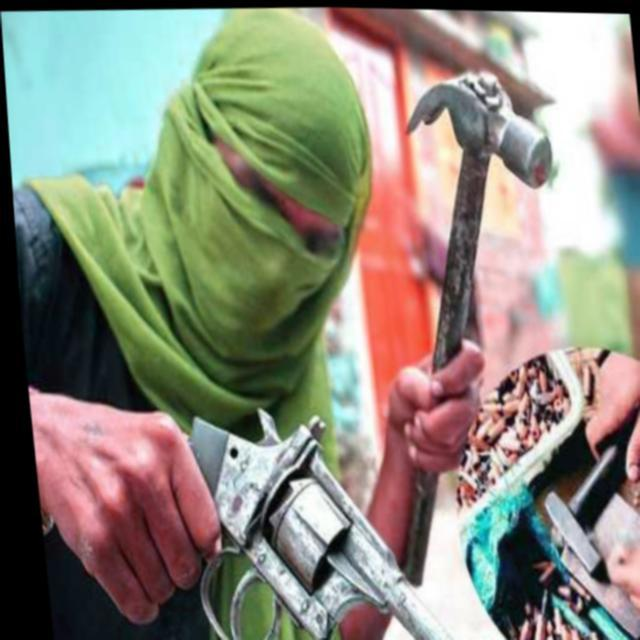weapon: (44, 375, 507, 640)
